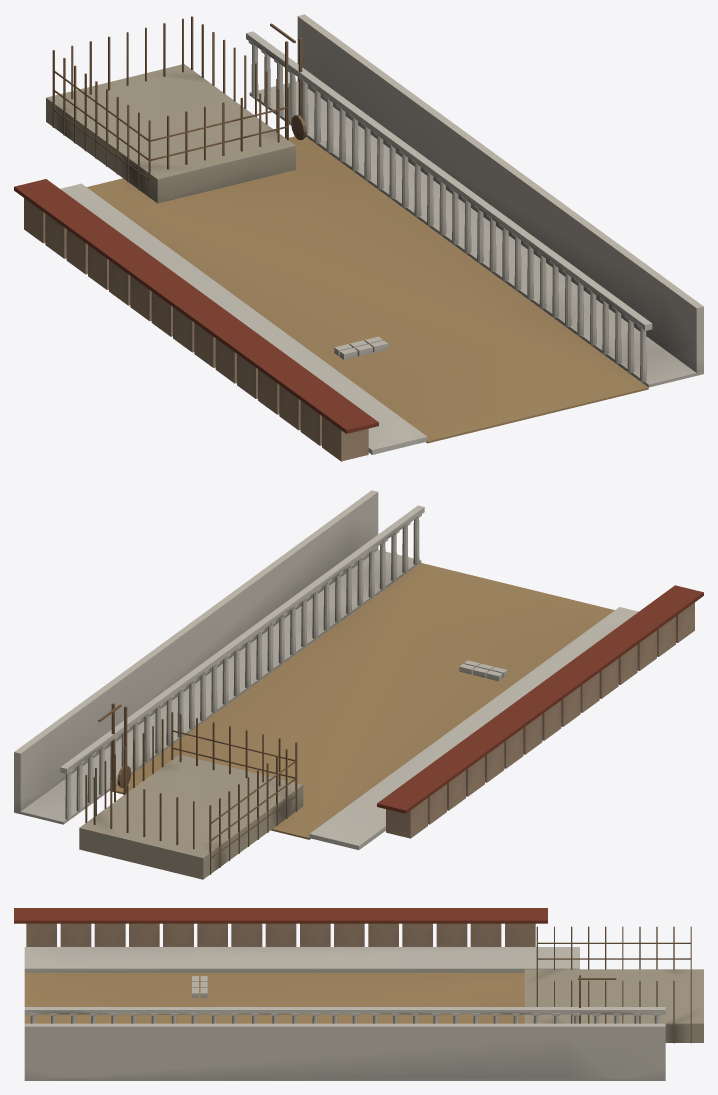
File: forum-of-caesar-construction.glb
The picture shows the model from 3 angles, top to bottom: view 1: azimuth 30°, elevation 25°; view 2: azimuth 150°, elevation 25°; view 3: azimuth 270°, elevation 25°; orthographic projection. The views are drawn at different scales.
Visible parts, largest first — view 1: p1_temple, p0_plaza, p2_site; view 2: p1_temple, p0_plaza, p2_site; view 3: p1_temple, p0_plaza, p2_site.
Part boxes in pixels (bbox=[...]): p1_temple: bbox=[24, 14, 703, 461]; p0_plaza: bbox=[87, 136, 648, 443]; p2_site: bbox=[14, 16, 388, 433]; p1_temple: bbox=[14, 490, 694, 879]; p0_plaza: bbox=[112, 563, 614, 839]; p2_site: bbox=[85, 585, 703, 874]; p1_temple: bbox=[24, 923, 703, 1080]; p0_plaza: bbox=[24, 972, 524, 1023]; p2_site: bbox=[14, 908, 691, 1043].
Size of the model in its own units: 79 by 20.4 by 161.
